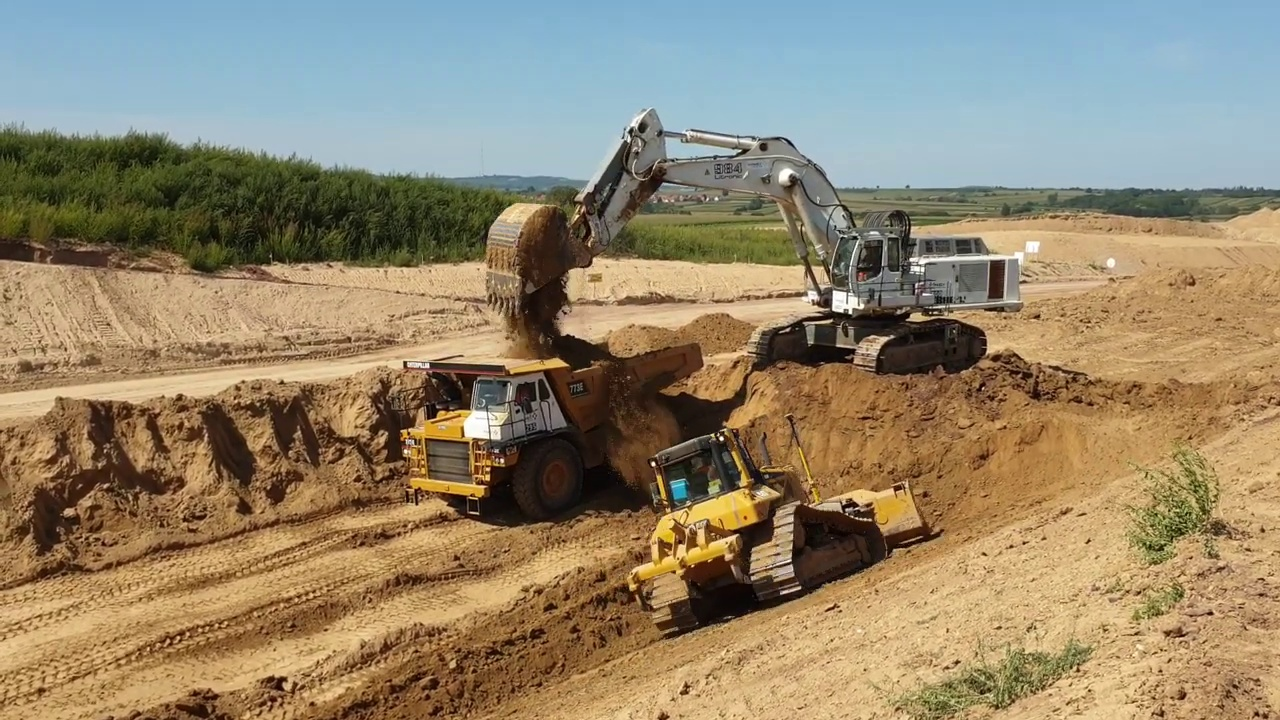bulldozer: (625, 407, 940, 641)
excavator: (481, 102, 1030, 375)
truck: (391, 340, 708, 524)
